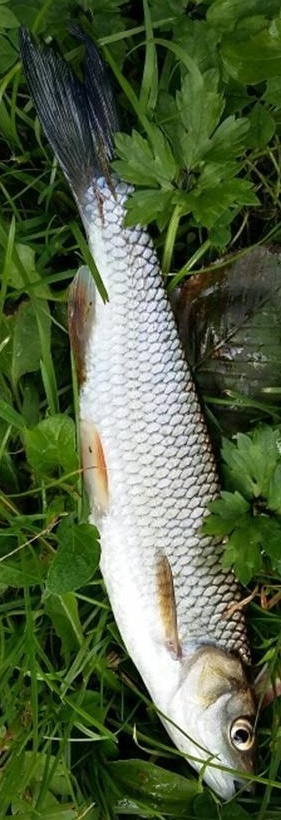Leuciscus cephalus: (20, 20, 261, 800)
